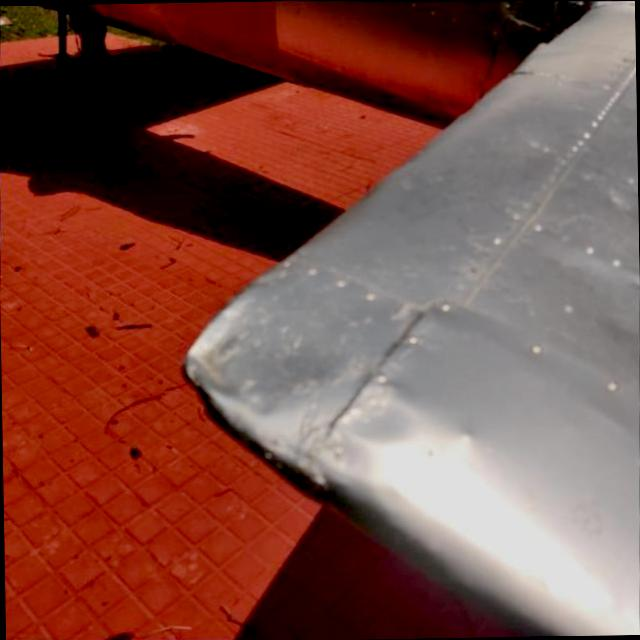dent: (185, 258, 348, 438), (334, 382, 416, 453)
